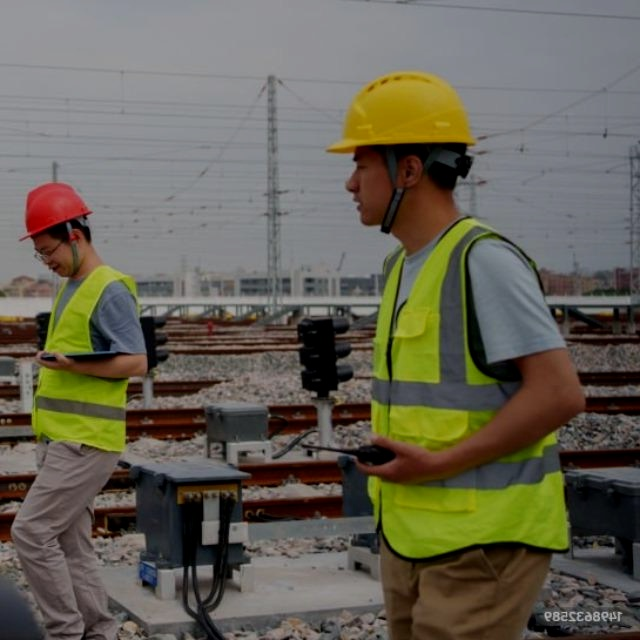Con_Casco: (327, 74, 475, 236), (16, 183, 88, 281)
Con_Chaleco: (361, 230, 565, 555), (28, 271, 140, 456)
